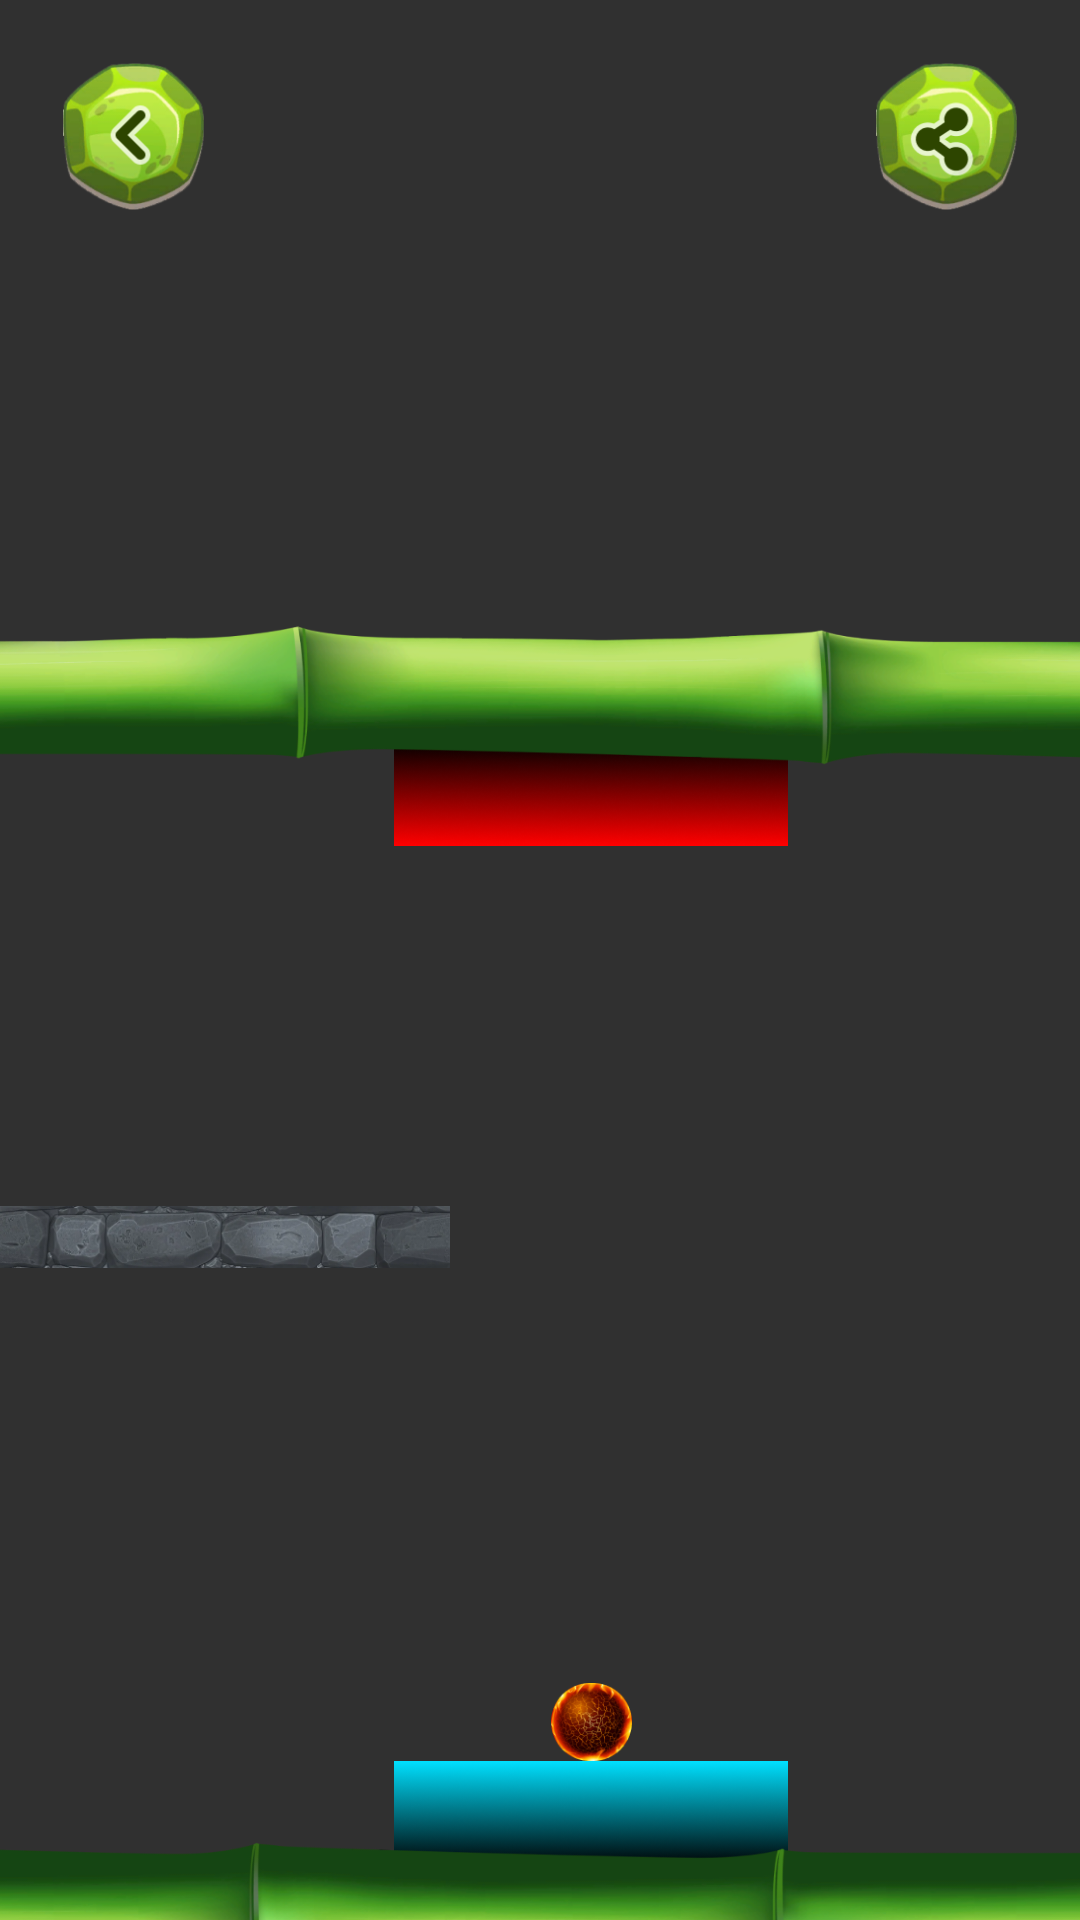

Where icons sit on this 1080×1920 app screen, as bbox=[x1, y1, x2, y2]:
back: bbox=[63, 63, 204, 210]
ball: bbox=[551, 1683, 632, 1761]
